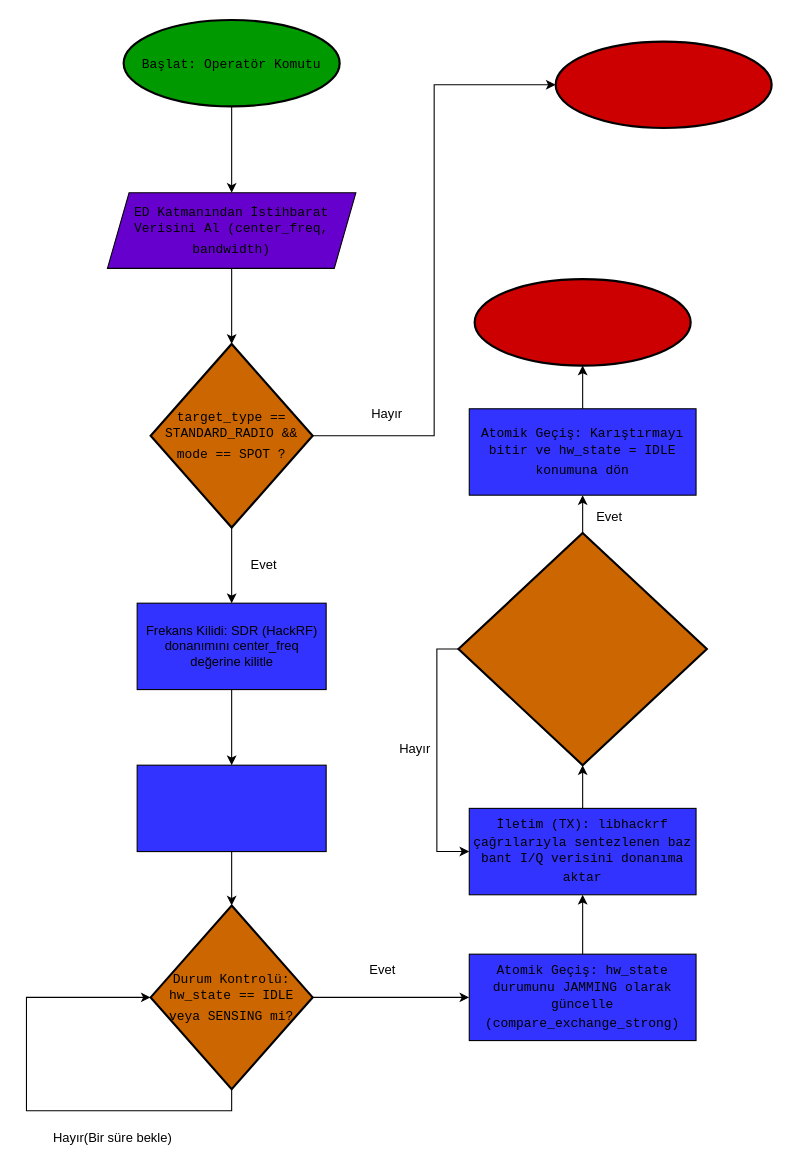
Some shapes in this 792 by 1172 pixel diagram are drawn without their labels. The centre of each missing label's shape, as x and y in pixels:
"Bitiş: Sürekli Karıştırma Tamamlandı" belongs at (582,322).
"I/Q Sentezi: Bandwidth değerini örtecek Gaussian Noise veya CW üret" belongs at (231,808).
"Süreci Sonlandır / Diğer Motorları Bekle" belongs at (663,84).
"Zamanlayıcı (süreli sonlandırma) doldu mu VEYA Operatör müdahale etti mi?" belongs at (582,648).
